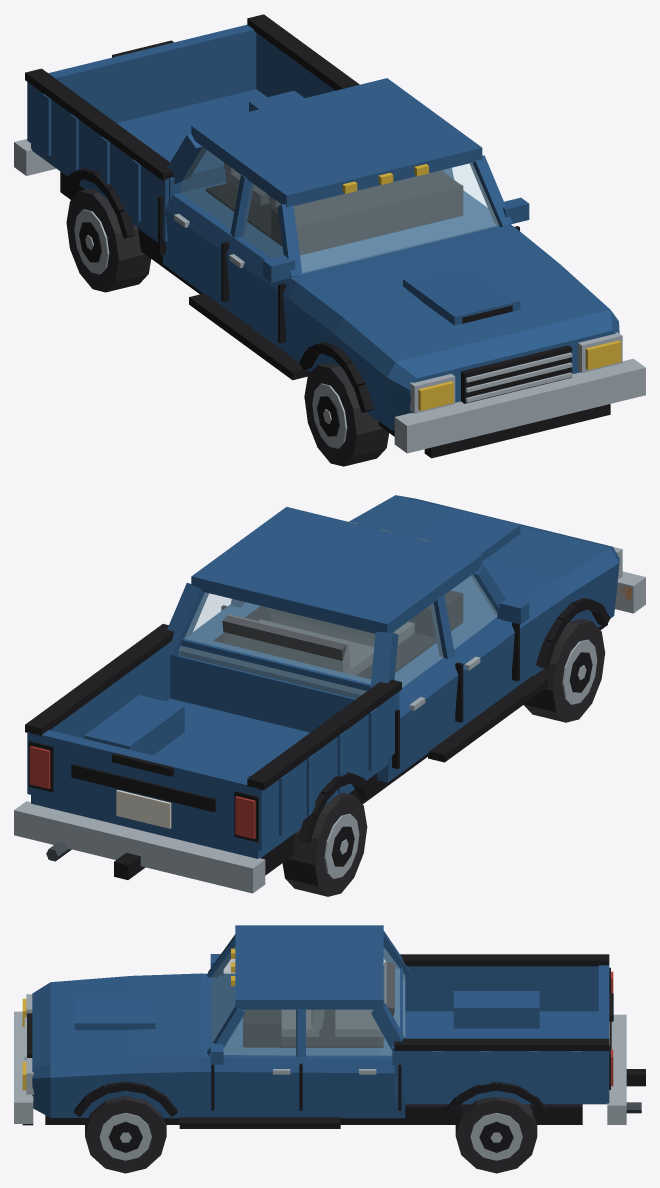
Rendered from GV_Pickup_Blue_01.glb.
3 renders of one model, top to bottom at view 1: azimuth 30°, elevation 25°; view 2: azimuth 150°, elevation 25°; view 3: azimuth 270°, elevation 25°, orthographic. The views are drawn at different scales.
Visible parts, largest first — view 1: GV_Pickup_Blue_01; view 2: GV_Pickup_Blue_01; view 3: GV_Pickup_Blue_01.
Part boxes in pixels (x1=…): GV_Pickup_Blue_01: x1=14, y1=14, x2=645, y2=466; GV_Pickup_Blue_01: x1=14, y1=495, x2=645, y2=896; GV_Pickup_Blue_01: x1=14, y1=925, x2=645, y2=1173.
Size of the model in its own units: 2.16 by 1.68 by 5.88.
2 materials, 2 textured.
